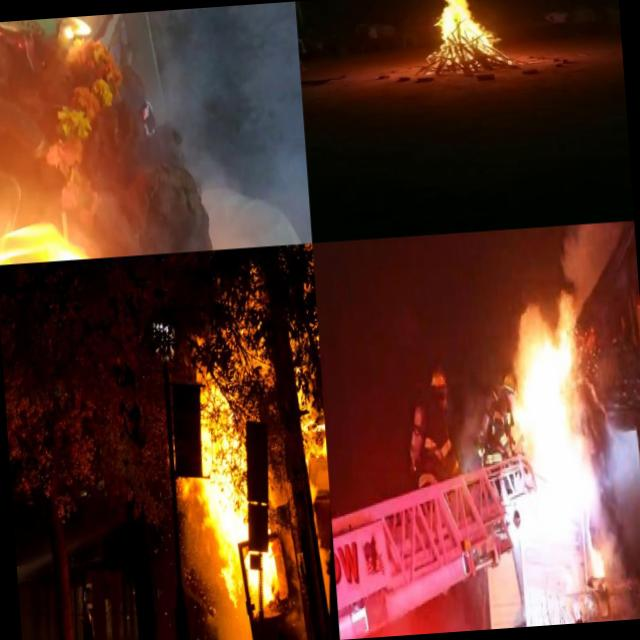fire: (508, 282, 606, 596), (170, 380, 294, 618), (421, 0, 509, 63)
smoke: (160, 2, 292, 142), (194, 613, 256, 640)
